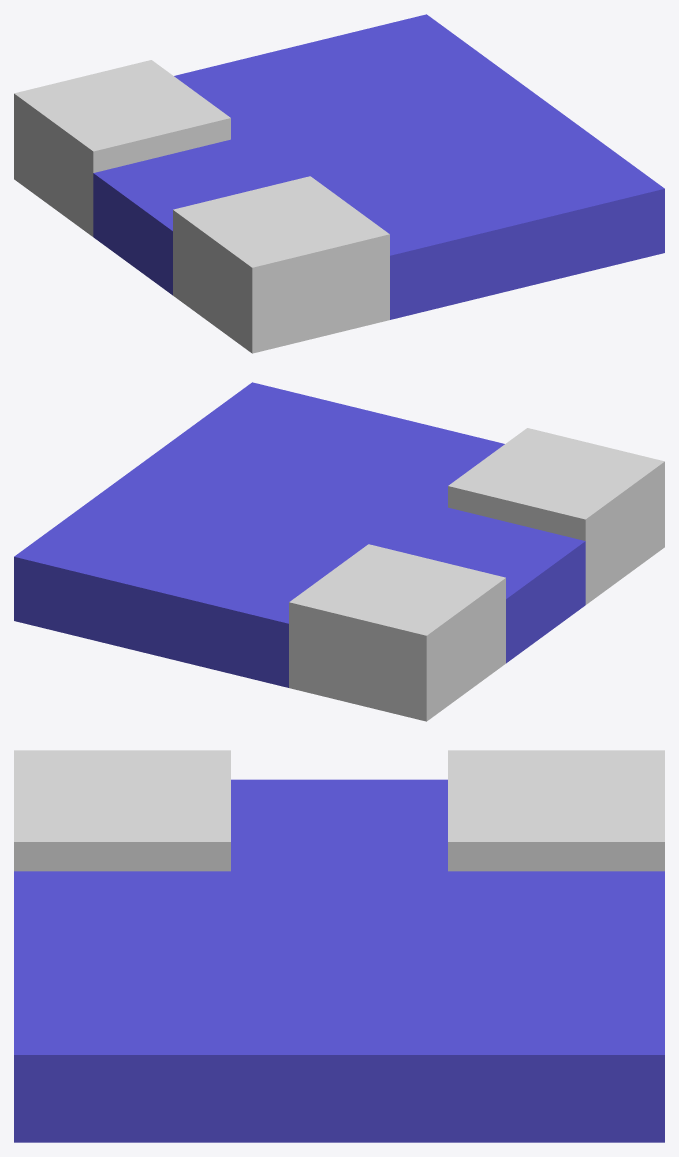
File: RiverToLake.fbx
3 renders of one model, top to bottom at view 1: azimuth 30°, elevation 25°; view 2: azimuth 150°, elevation 25°; view 3: azimuth 270°, elevation 25°, orthographic. The views are drawn at different scales.
Parts seen in each view (by area): view 1: RiverToLake; view 2: RiverToLake; view 3: RiverToLake.
Boxes of the visible parts, x1,y1,x2,y2 form: RiverToLake: [14, 14, 664, 353]; RiverToLake: [14, 382, 664, 721]; RiverToLake: [14, 750, 664, 1142].
Bounding box in the file's own units: 200 × 200 × 39.76.
